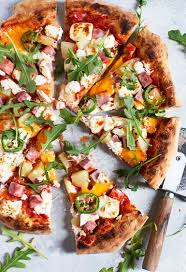pizza: (1, 4, 176, 240)
